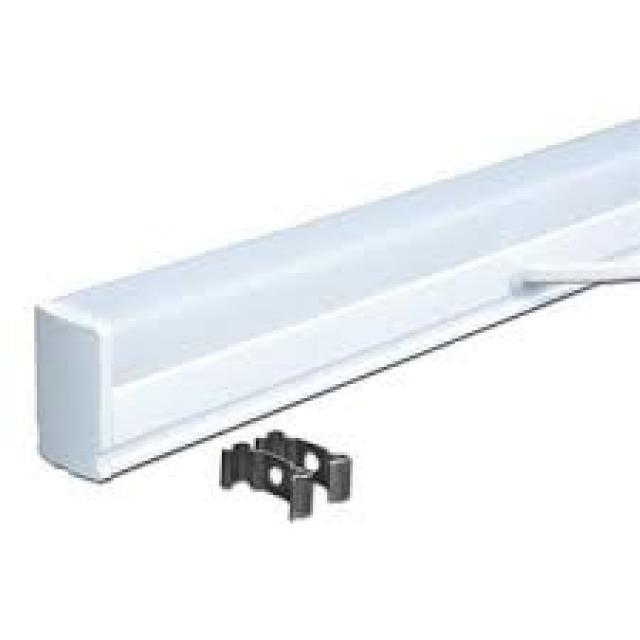tubelight_off: (30, 113, 640, 497)
